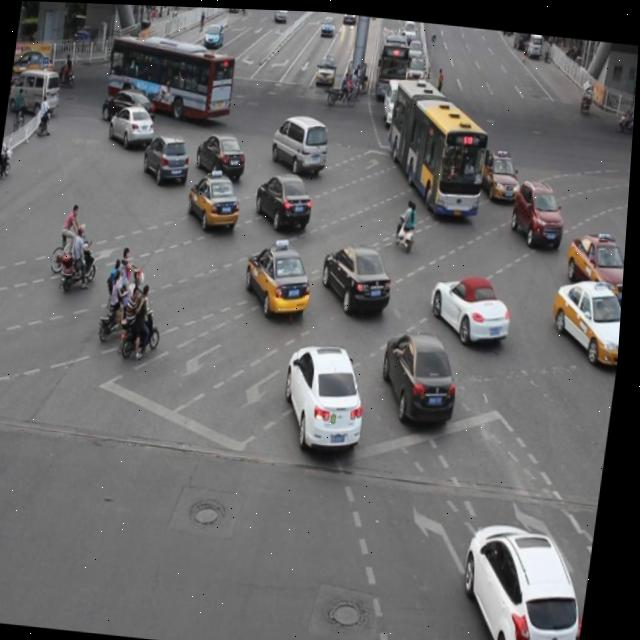car: (460, 512, 601, 640), (282, 335, 377, 448), (379, 322, 466, 424), (548, 269, 627, 360), (428, 265, 517, 341), (320, 236, 398, 313), (245, 236, 318, 313), (561, 222, 629, 296), (510, 171, 569, 244), (254, 165, 317, 229), (187, 165, 245, 228), (143, 129, 194, 185), (195, 127, 250, 178), (479, 145, 524, 198), (101, 84, 158, 125), (108, 100, 157, 147)
truck: (269, 108, 332, 173)
van: (381, 74, 494, 212), (105, 33, 238, 117)
